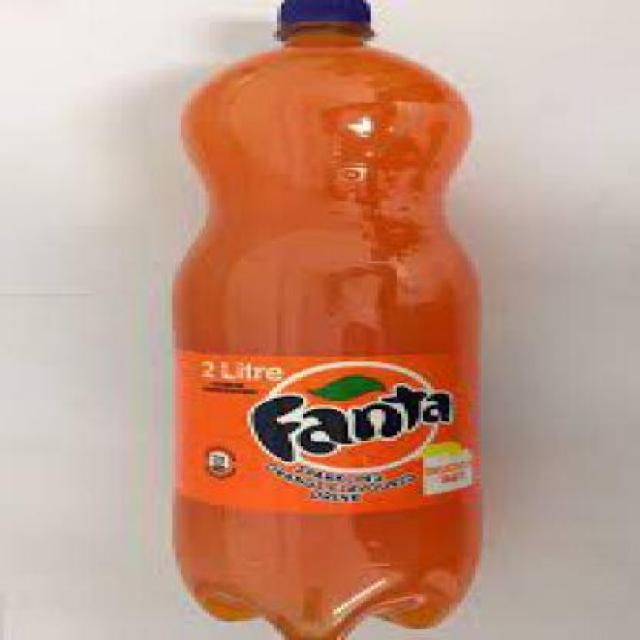Fanta: (156, 4, 502, 638)
